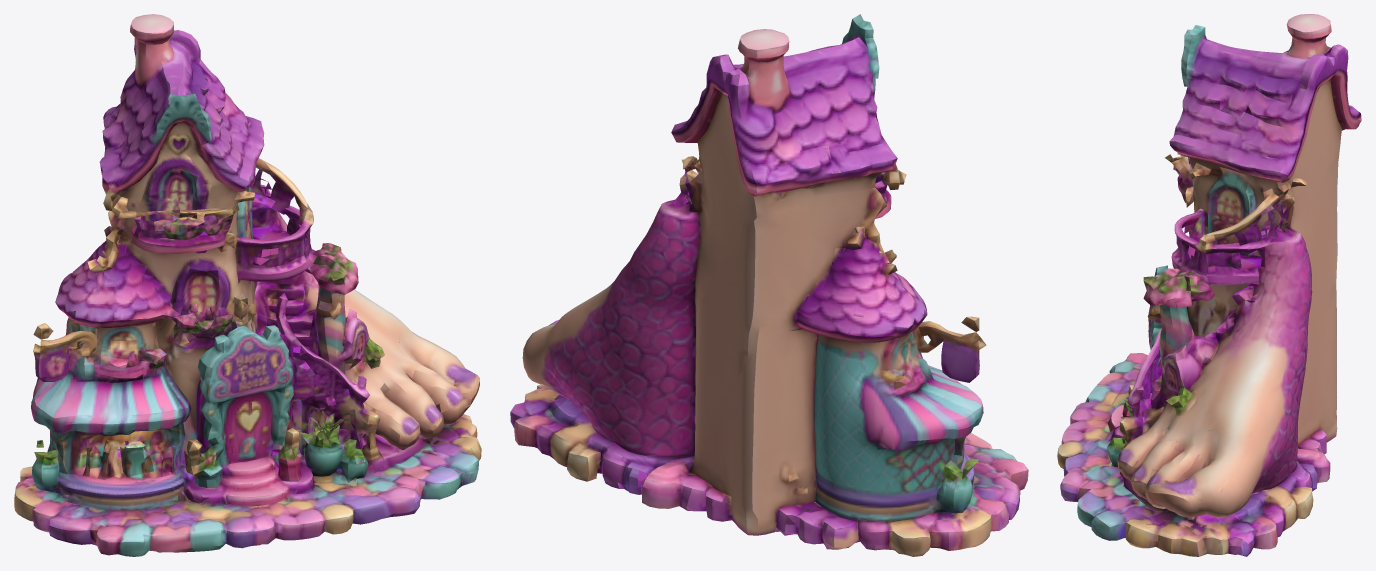
File: feet_house.glb
3 views of the same model, side by side, from view 1: azimuth 30°, elevation 25°; view 2: azimuth 150°, elevation 25°; view 3: azimuth 270°, elevation 25° (orthographic). The views are drawn at different scales.
Parts seen in each view (by area): view 1: output; view 2: output; view 3: output.
Boxes of the visible parts, x1,y1,x2,y2 form: output: (14, 14, 481, 556); output: (510, 14, 1028, 556); output: (1057, 14, 1361, 556).
Size of the model in its own units: 2.01 by 1.95 by 1.29.
1 material, 1 textured.
